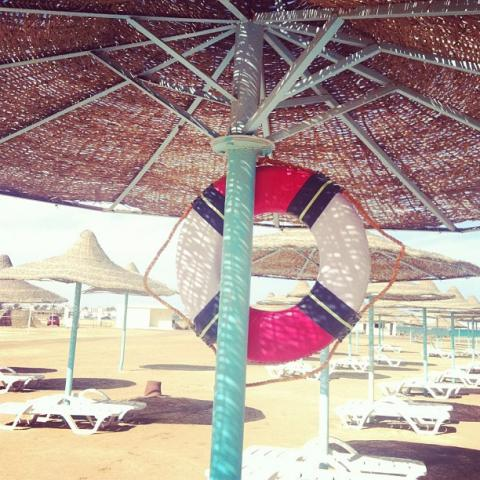car: (46, 316, 61, 328)
